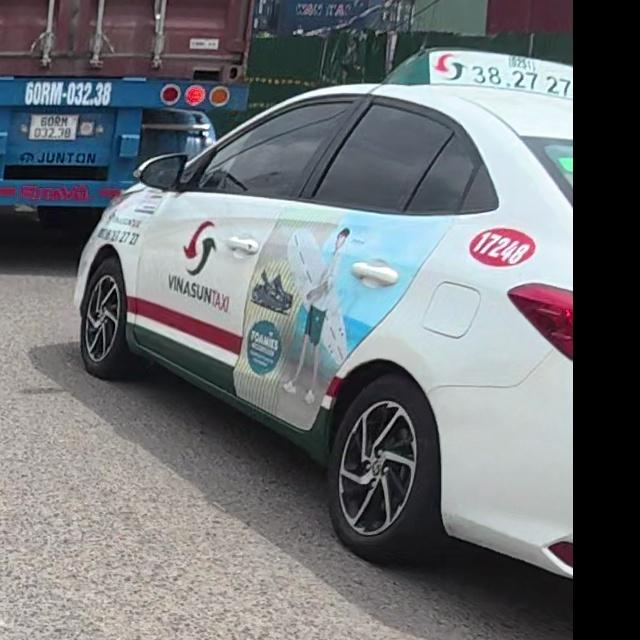license-plate: (29, 114, 77, 140)
